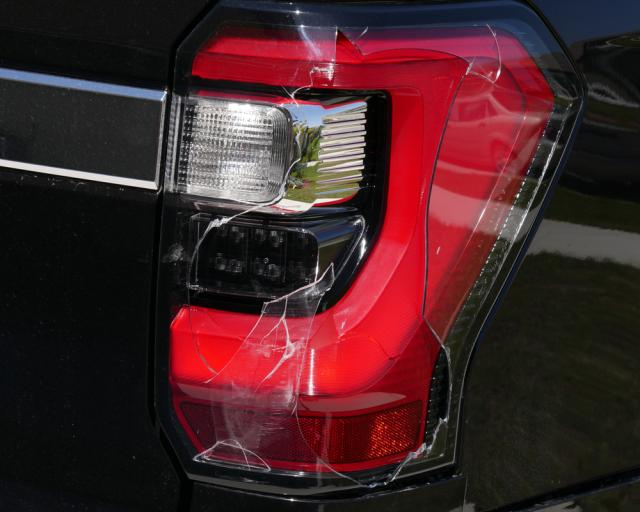lamp broken: (151, 0, 587, 502)
